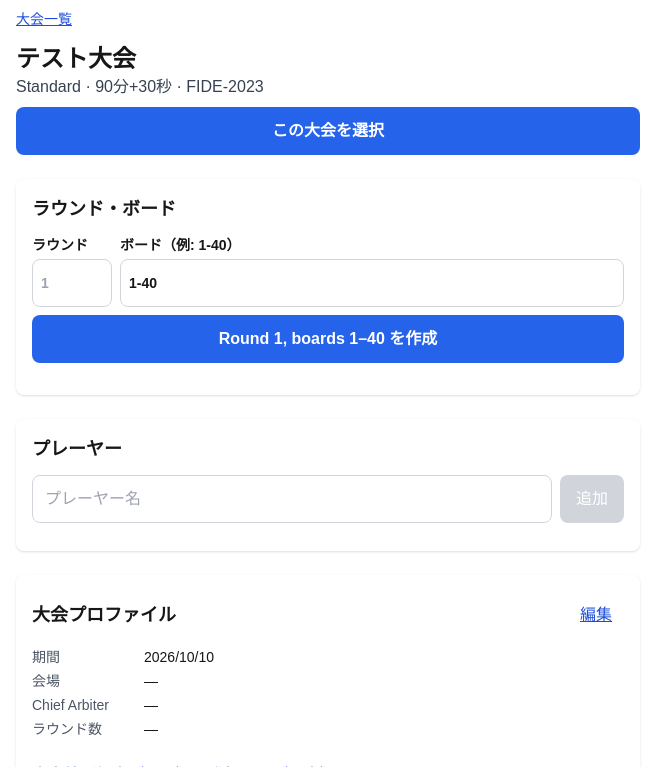
Scenario: Tournament detail — editing after incidents › shows no warning without incidents
Click the button "編集".
click(596, 615)  # box x1=568 y1=591 x2=624 y2=639
(page scrolled)
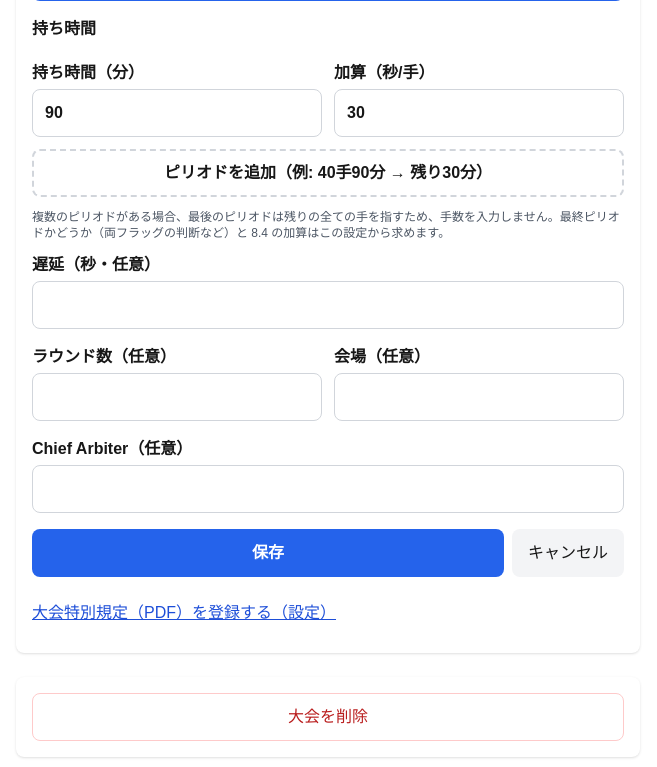
Result: the button "保存" is shown at x1=32 y1=529 x2=504 y2=577
